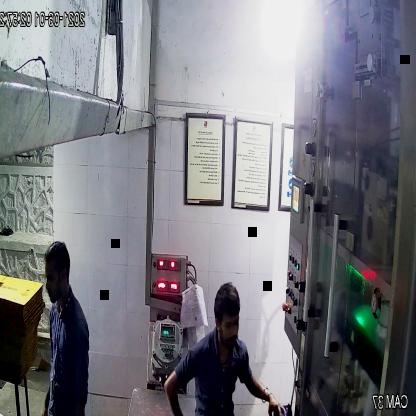no_goggles: (212, 312, 244, 334)
